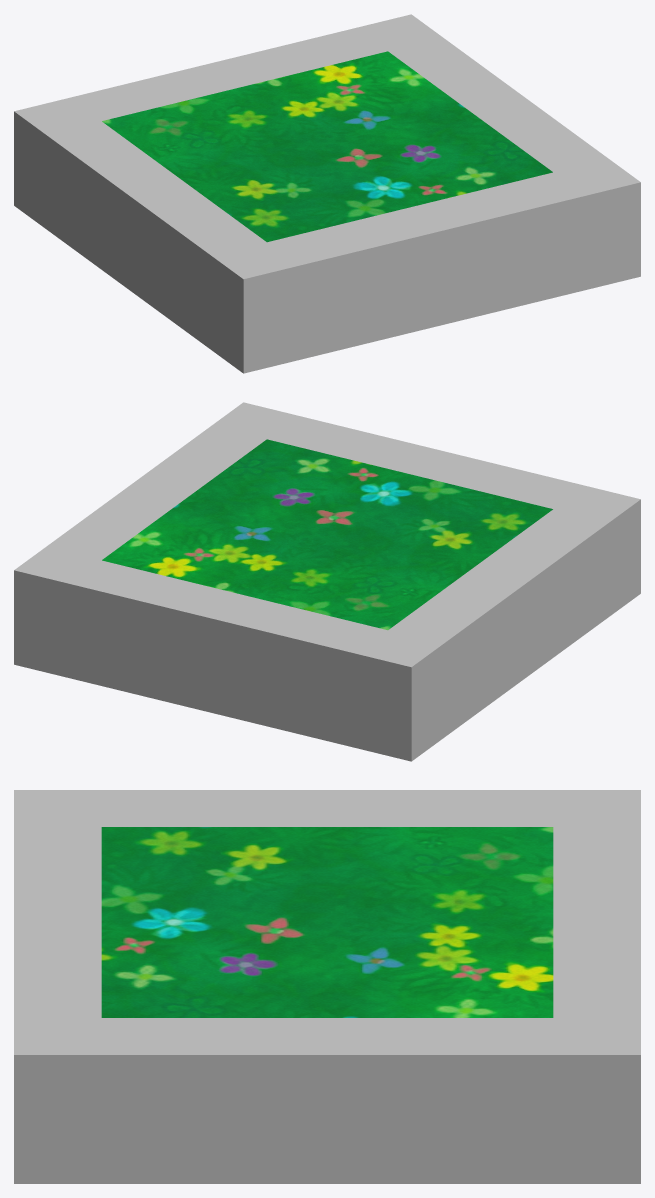
Rendered from Plant02_b01.FBX.
The picture shows the model from 3 angles, top to bottom: view 1: azimuth 30°, elevation 25°; view 2: azimuth 150°, elevation 25°; view 3: azimuth 270°, elevation 25°; orthographic projection. The views are drawn at different scales.
Visible parts, largest first — view 1: Plant02_b01; view 2: Plant02_b01; view 3: Plant02_b01.
Part boxes in pixels (x1,y1,x2,y2): Plant02_b01: [14, 14, 640, 373]; Plant02_b01: [14, 402, 640, 761]; Plant02_b01: [14, 790, 640, 1183].
Bounding box in the file's own units: 208 × 47.09 × 208.
